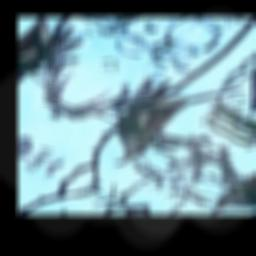Cuckoo: (81, 52, 249, 181)
